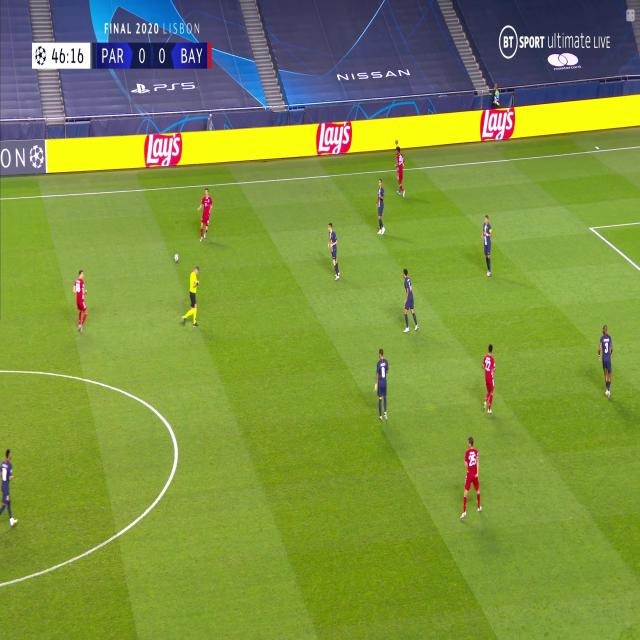ball: (174, 252, 179, 262)
player: (458, 434, 484, 524), (0, 448, 18, 528), (372, 347, 390, 424), (399, 267, 419, 333), (597, 324, 614, 400), (182, 264, 202, 327), (481, 342, 497, 414), (72, 268, 89, 335), (195, 187, 213, 241), (480, 214, 494, 278), (326, 221, 341, 279), (392, 142, 407, 199), (374, 177, 386, 237)
